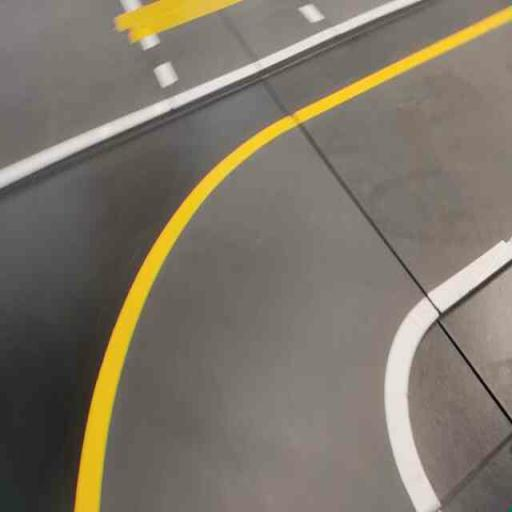right: (33, 82, 461, 511)
